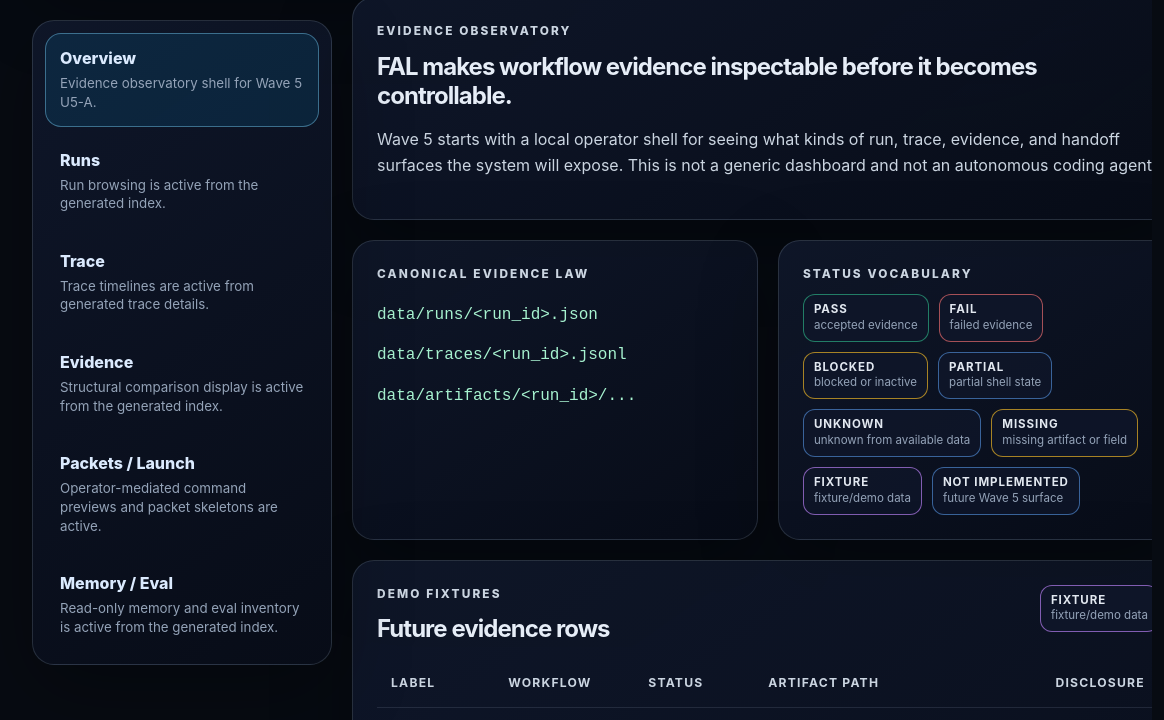
Test: U5-A workbench shell › shows missing comparison index guidance without fixture fallback
(page scrolled)
Click the button "Evidence".
click(182, 384)  # box [45,337,319,430]
(page scrolled)
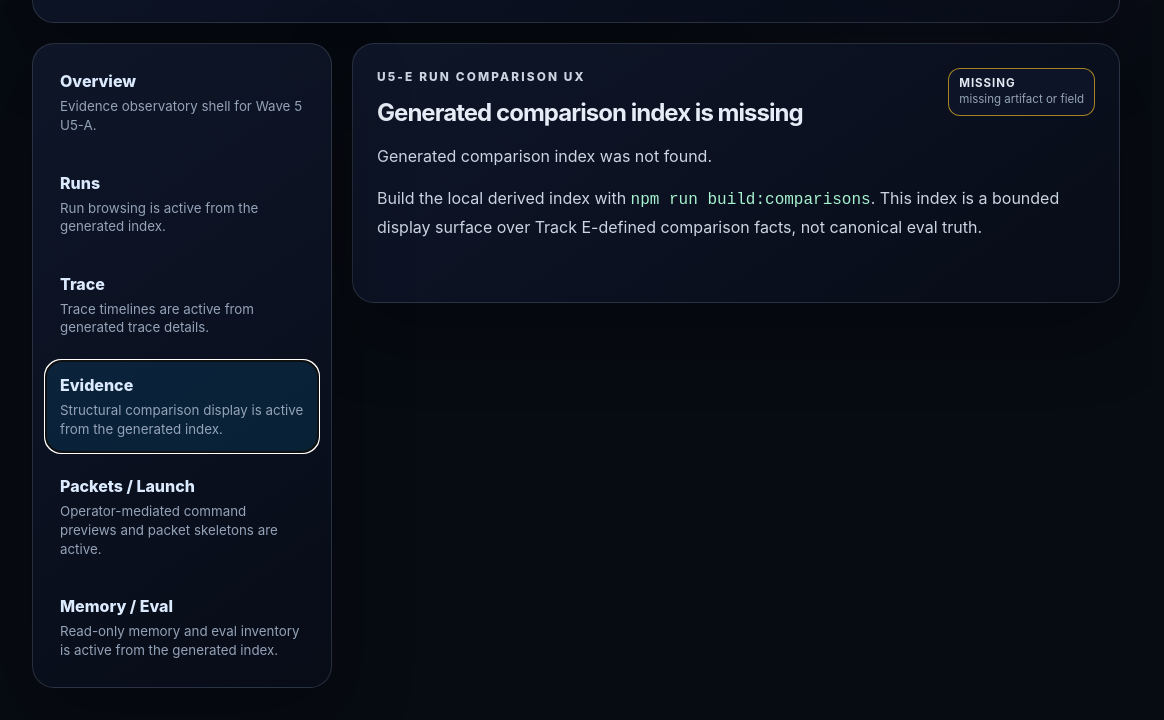
Result: the heading "Generated comparison index is missing" is shown at [377,98,803,127]
Result: the text "npm run build:comparisons" is shown at [631,191,871,209]
Result: the heading "Future evidence rows" is gone
